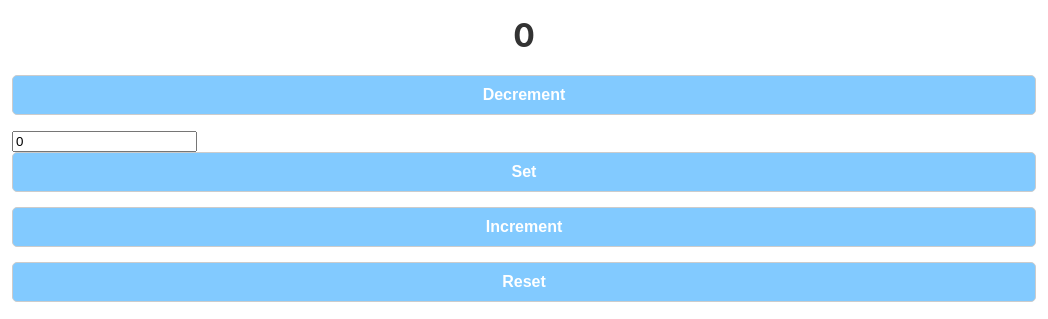
Counter component › renders a count of 10 after clicking the set button
In the number field: (104, 142) x1=12 y1=131 x2=197 y2=152, type "10"
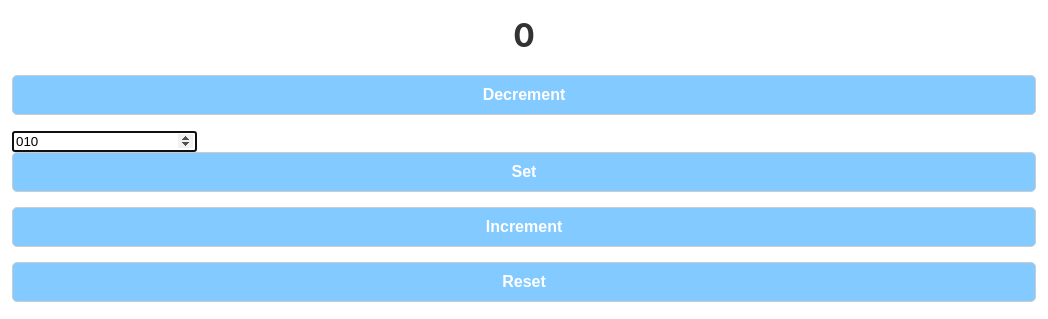
Click the button "Set": (524, 172) x1=12 y1=152 x2=1036 y2=192
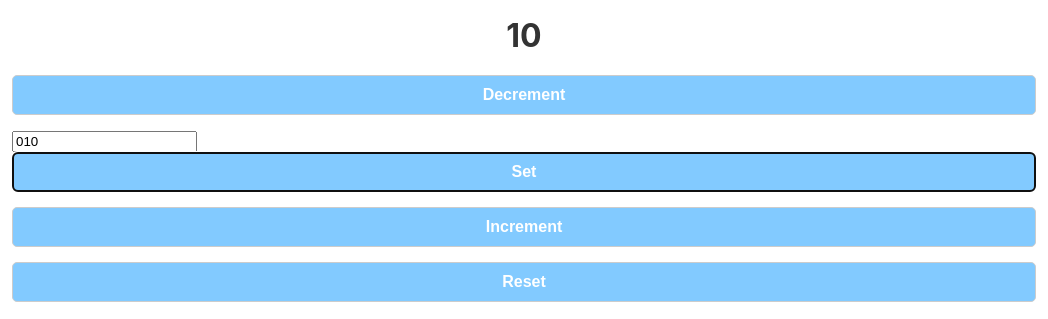
Expected: the heading reads "10", x1=506 y1=16 x2=542 y2=55
